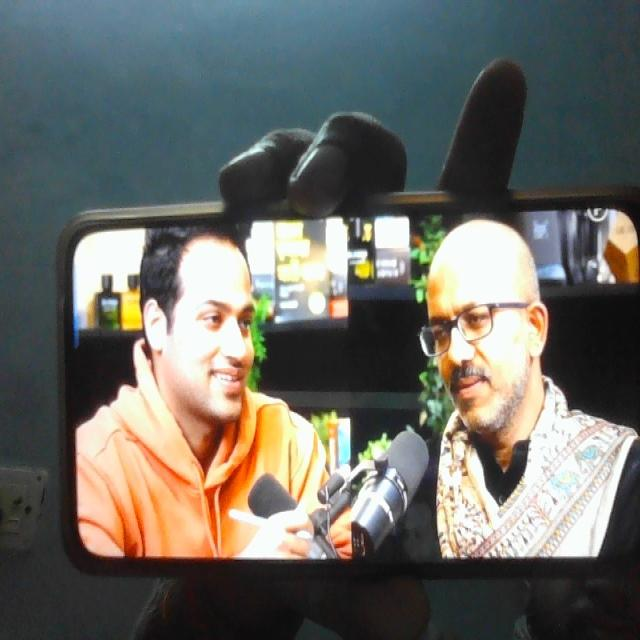fake: (142, 185, 272, 432), (420, 208, 547, 448)
